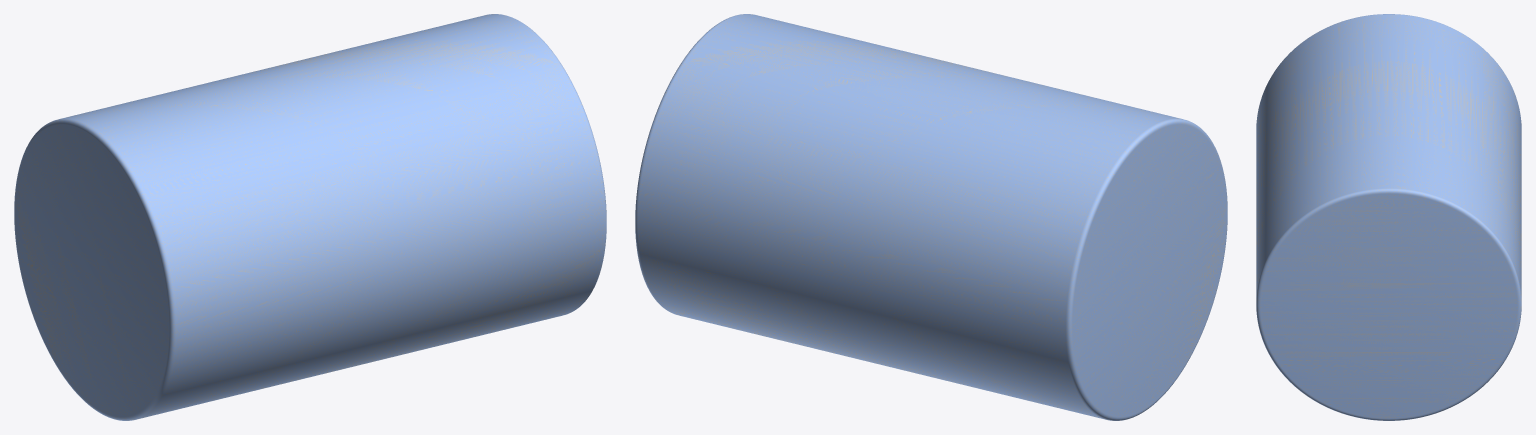
File: original-17.obj
3 renders of one model, left to right at view 1: azimuth 30°, elevation 25°; view 2: azimuth 150°, elevation 25°; view 3: azimuth 270°, elevation 25°, orthographic. The views are drawn at different scales.
Parts seen in each view (by area): view 1: mesh15/mesh15-geometry#mesh15-geometry; view 2: mesh15/mesh15-geometry#mesh15-geometry; view 3: mesh15/mesh15-geometry#mesh15-geometry.
Part boxes in pixels (x1,y1,x2,y2): mesh15/mesh15-geometry#mesh15-geometry: [14, 14, 606, 420]; mesh15/mesh15-geometry#mesh15-geometry: [635, 14, 1227, 420]; mesh15/mesh15-geometry#mesh15-geometry: [1256, 14, 1521, 420].
Size of the model in its own units: 0.1671 by 0.102 by 0.1058.
